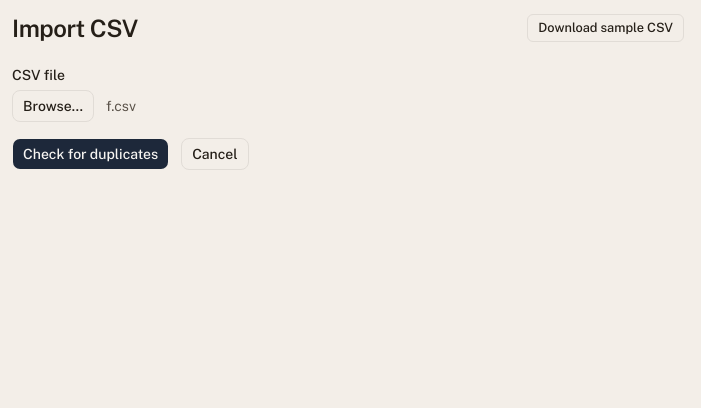
lists each parse error with row number and message
The image size is (701, 408).
Earlier steps of the test are not shown.
Click the button "Check for duplicates": [91, 154] box [12,138,169,170]
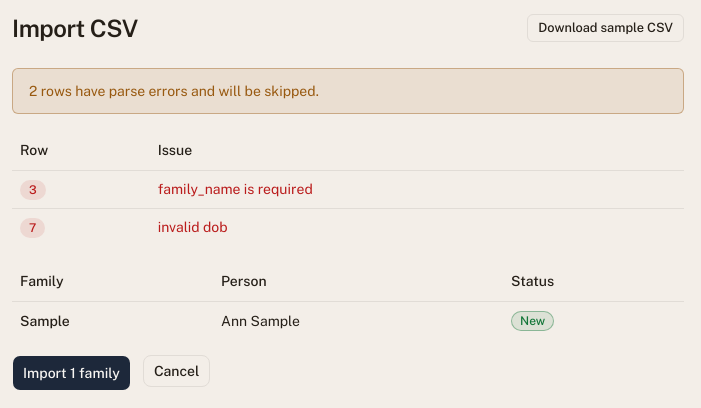
expect the button "Import 1 family" is shown: met, box [12,355,131,391]
expect the text "2 rows have parse errors and will be skipped." is shown: met, box [12,68,684,114]
expect the icon "3" is shown: met, box [20,180,46,200]
